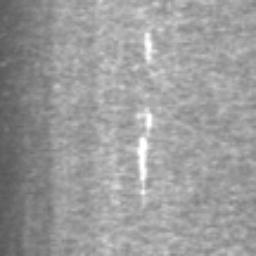White rust: (137, 137, 149, 182), (137, 108, 153, 130), (143, 32, 153, 63)
